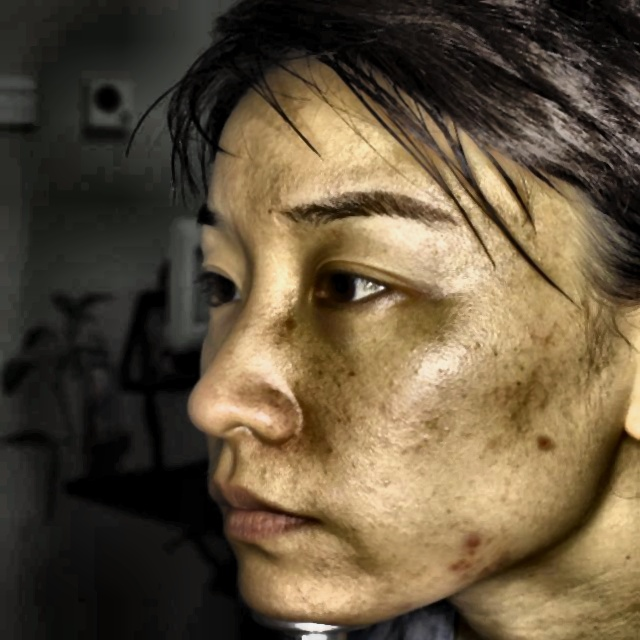comedone: (528, 429, 564, 460), (448, 552, 484, 581), (457, 527, 494, 553)
